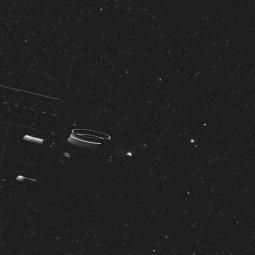proba_3_csc: (0, 86, 146, 207)
